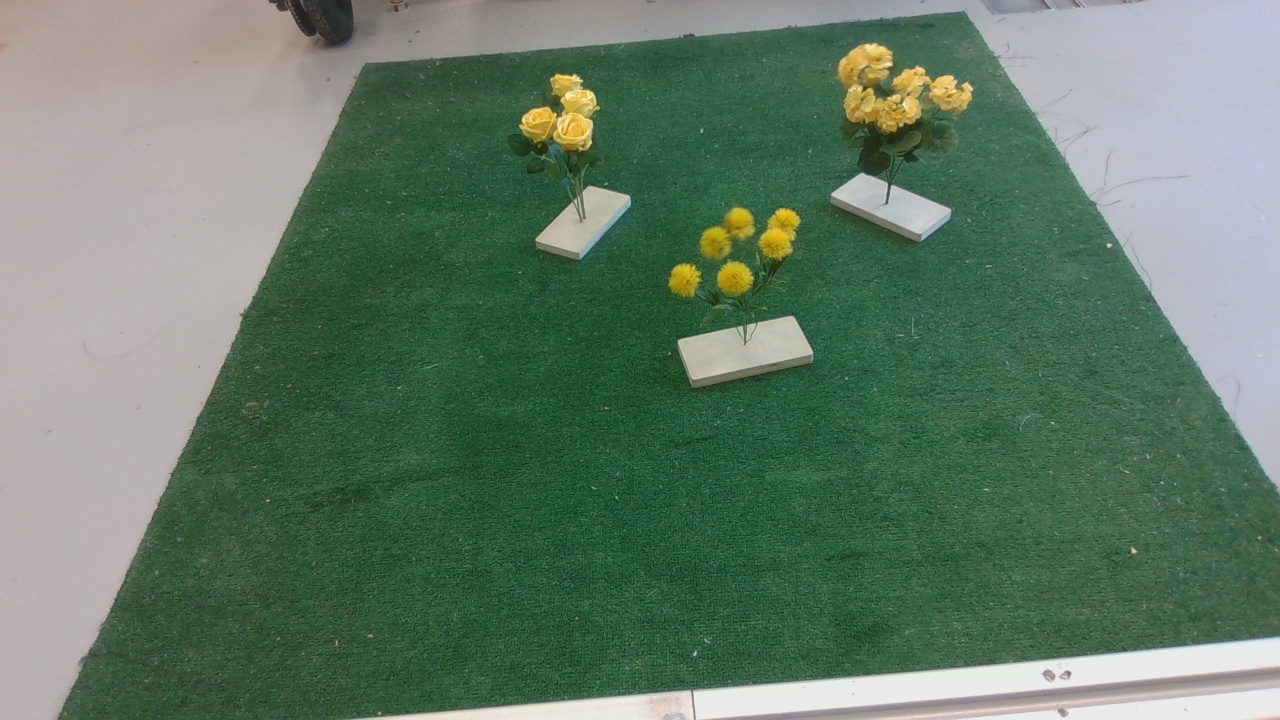dandelion: (664, 207, 811, 322)
geranium: (828, 46, 983, 184)
rose: (510, 75, 610, 208)
